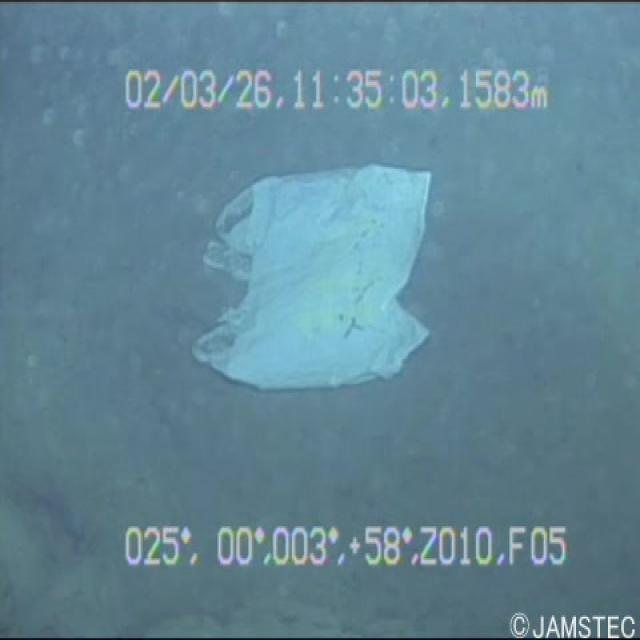plastic: (180, 137, 451, 427)
